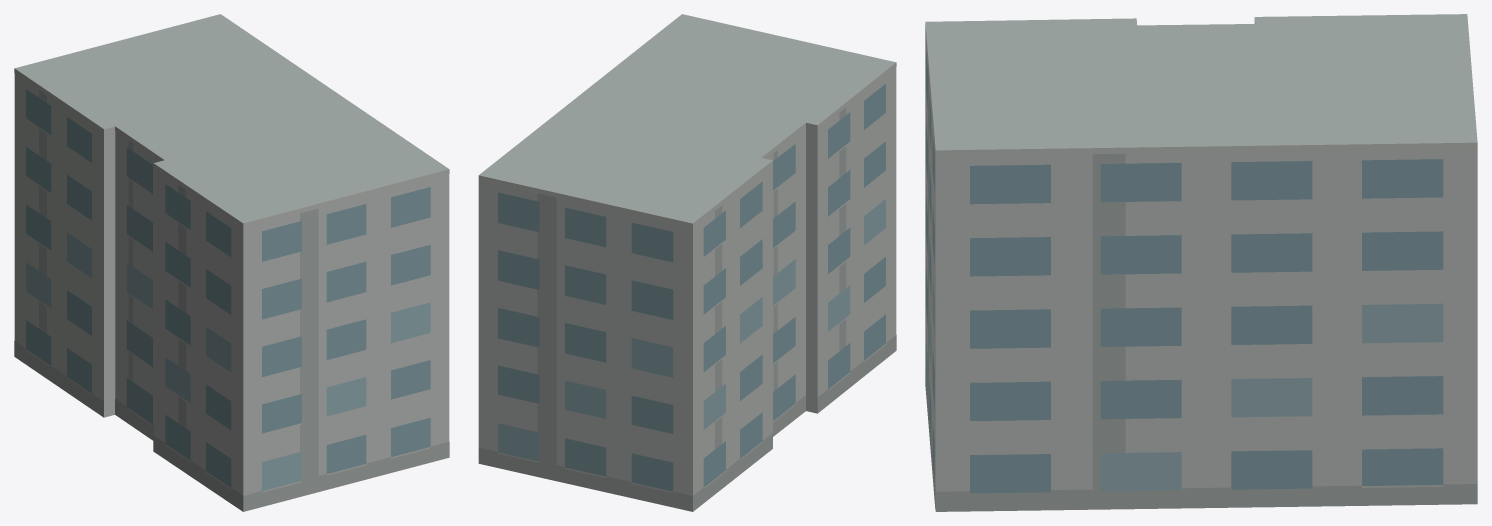
File: survey-upis-32631278.glb
3 renders of one model, left to right at view 1: azimuth 30°, elevation 25°; view 2: azimuth 150°, elevation 25°; view 3: azimuth 270°, elevation 25°, orthographic. The views are drawn at different scales.
Visible parts, largest first — view 1: survey-upis-32631278.tmp; view 2: survey-upis-32631278.tmp; view 3: survey-upis-32631278.tmp.
Part boxes in pixels (box(x1,y1,x2,y2)): survey-upis-32631278.tmp: box(14, 14, 449, 511); survey-upis-32631278.tmp: box(478, 14, 896, 511); survey-upis-32631278.tmp: box(925, 14, 1477, 511).
Bounding box in the file's own units: 11.74 × 14.5 × 20.08.
